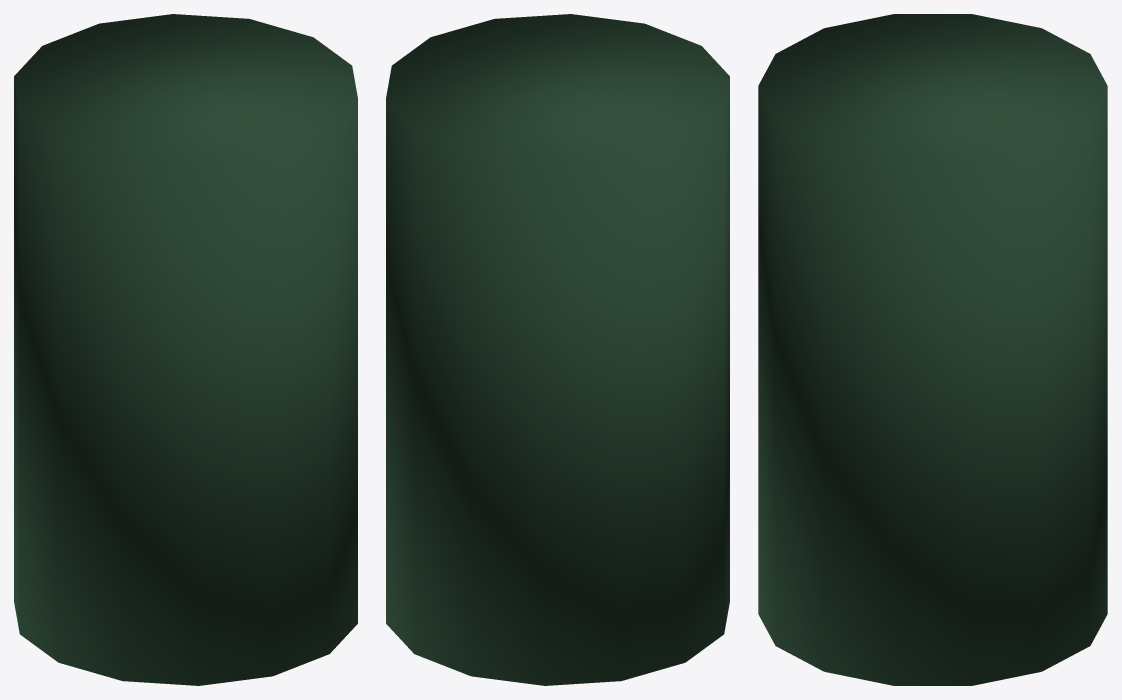
File: m_trashcan.fbx
3 renders of one model, left to right at view 1: azimuth 30°, elevation 25°; view 2: azimuth 150°, elevation 25°; view 3: azimuth 270°, elevation 25°, orthographic.
Visible parts, largest first — view 1: m_trashcan; view 2: m_trashcan; view 3: m_trashcan.
Boxes of the visible parts, left/top/right/bottom form: m_trashcan: left=14, top=14, right=357, bottom=685; m_trashcan: left=386, top=14, right=729, bottom=685; m_trashcan: left=758, top=14, right=1107, bottom=685.
Bounding box in the file's own units: 175 × 300 × 180.
